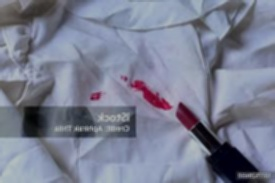lipstick: (140, 83, 175, 106), (119, 78, 151, 95), (87, 89, 108, 105), (121, 72, 129, 81)
